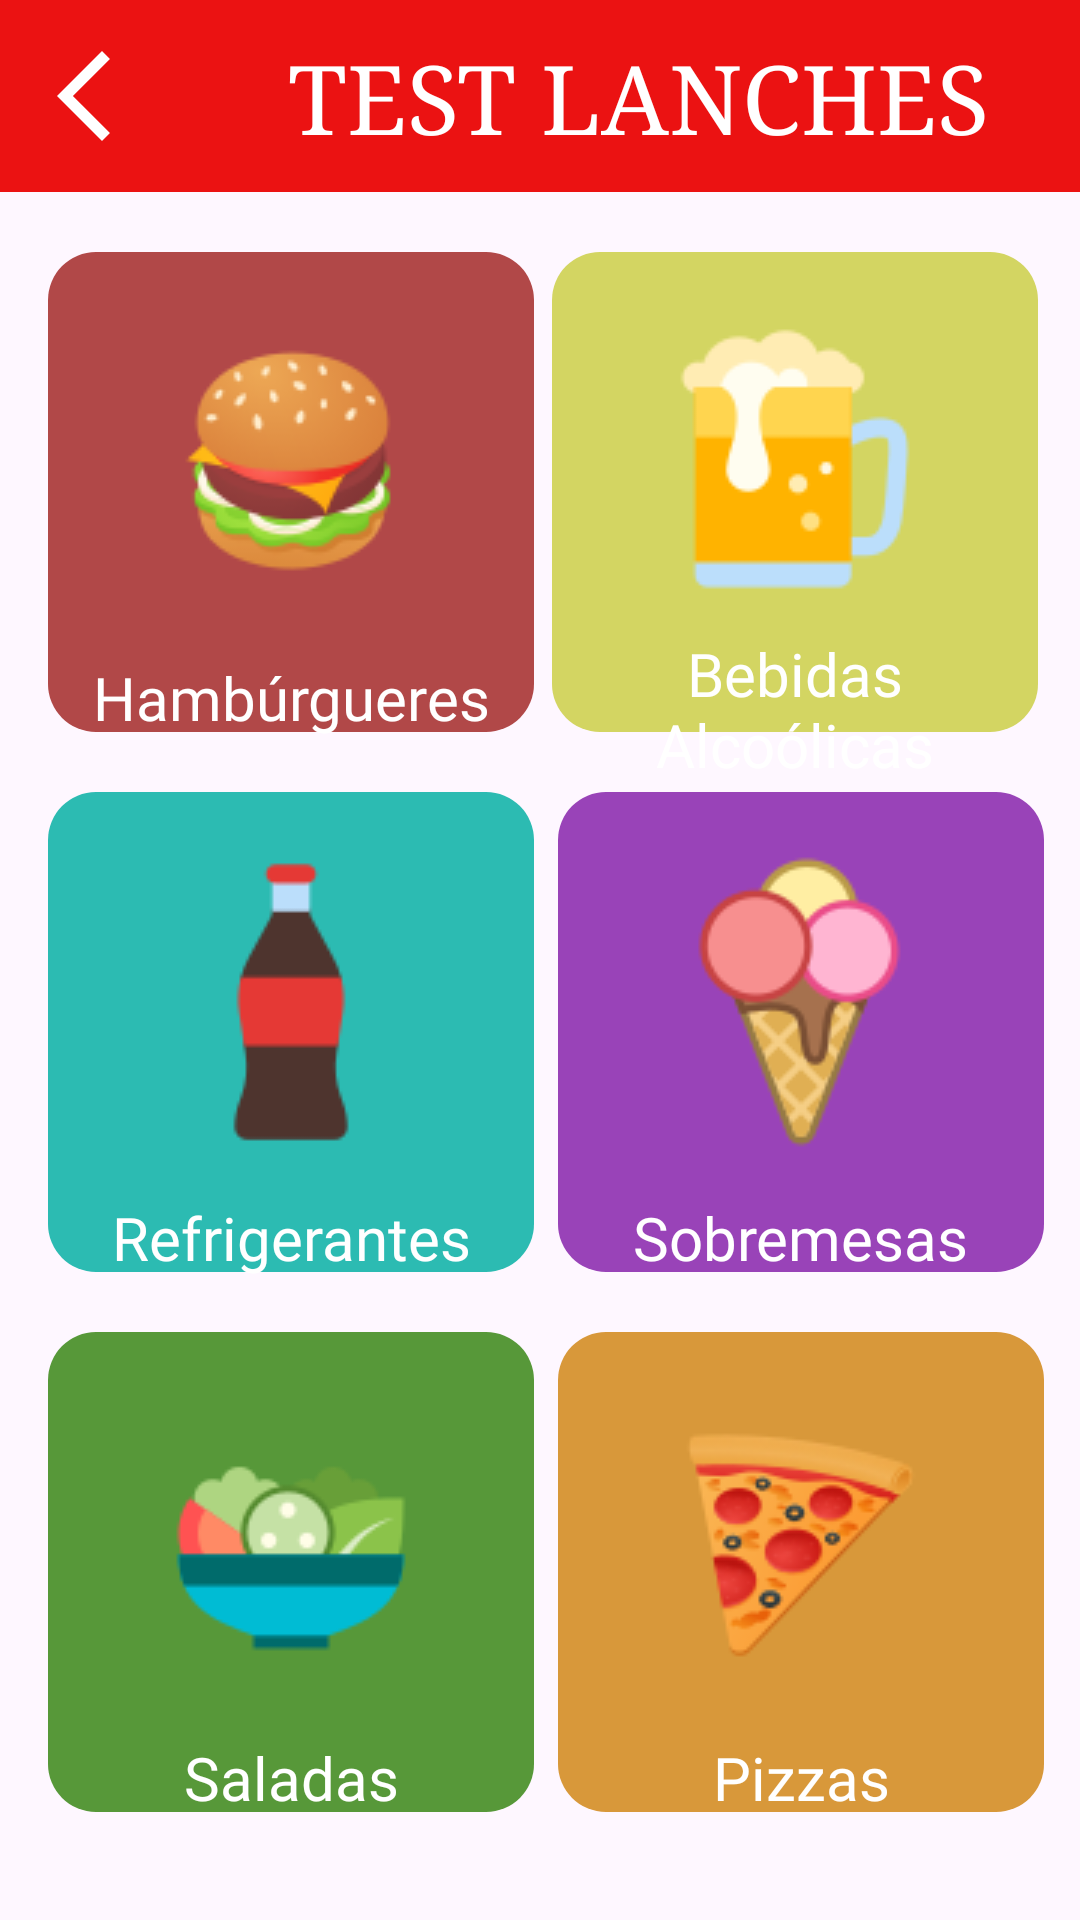

Icons on this 1080w x 1920h Android screen, each with its box as (left=x1, top=y1, right=x2, bottom=y2):
a simple burger: (left=188, top=352, right=391, bottom=570)
back: (left=57, top=51, right=110, bottom=141)
beer: (left=681, top=330, right=910, bottom=589)
cola: (left=233, top=863, right=349, bottom=1141)
cone: (left=698, top=858, right=900, bottom=1146)
